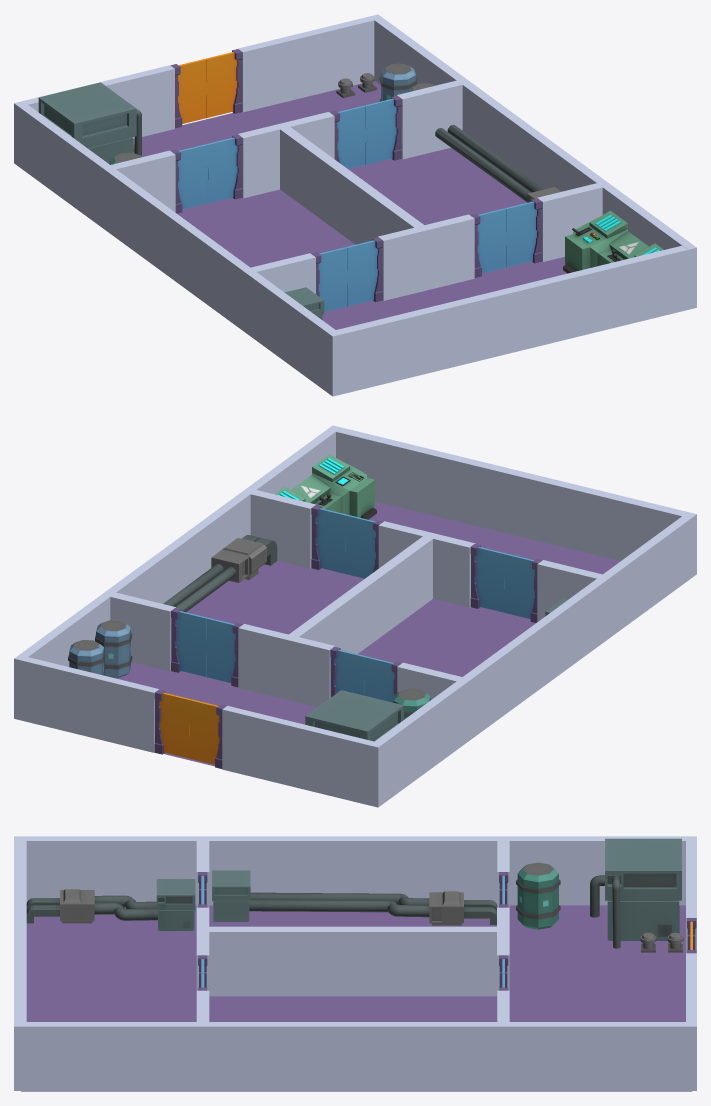
File: maps_05.fbx
The picture shows the model from 3 angles, top to bottom: view 1: azimuth 30°, elevation 25°; view 2: azimuth 150°, elevation 25°; view 3: azimuth 270°, elevation 25°; orthographic projection. The views are drawn at different scales.
Visible parts, largest first — view 1: wall_01_05_geo, wall_01_03_geo, wall_01_01_geo, wall_01_02_geo, wall_01_12_geo, wall_01_10_geo1, door_01_geo (×4), door_02_geo (×4), wall_01_06_geo, generatorStation_05_geo, wall_01_10_geo, wall_01_11_geo (+12 smaller); view 2: wall_01_05_geo, wall_01_01_geo, wall_01_03_geo, wall_01_02_geo, wall_01_04_geo, wall_01_12_geo, wall_01_10_geo1, door_01_geo (×4), door_02_geo (×4), wall_01_10_geo, wall_01_06_geo, table_01_geo (+13 smaller); view 3: wall_01_02_geo, wall_01_05_geo, wall_01_01_geo, wall_01_10_geo1, generatorStation_05_geo, generatorStation_04_geo1, generatorStation_04_geo, tank_03_geo, wall_01_03_geo, wall_01_04_geo, wall_01_06_geo, wall_01_10_geo (+6 smaller).
Boxes of the visible parts, left/top/right/bottom form: wall_01_05_geo: left=133, top=81, right=567, bottom=329; wall_01_03_geo: left=336, top=245, right=687, bottom=394; wall_01_01_geo: left=14, top=101, right=341, bottom=396; wall_01_02_geo: left=369, top=14, right=696, bottom=309; wall_01_12_geo: left=238, top=16, right=374, bottom=112; wall_01_10_geo1: left=280, top=127, right=423, bottom=244; door_01_geo (×4): left=206, top=98, right=536, bottom=306; door_02_geo (×4): left=178, top=105, right=507, bottom=311; wall_01_06_geo: left=378, top=214, right=474, bottom=300; generatorStation_05_geo: left=38, top=82, right=141, bottom=164; wall_01_10_geo: left=237, top=112, right=334, bottom=198; wall_01_11_geo: left=396, top=80, right=462, bottom=159; wall_01_05_geo: left=114, top=501, right=620, bottom=766; wall_01_01_geo: left=369, top=512, right=696, bottom=807; wall_01_03_geo: left=336, top=427, right=687, bottom=561; wall_01_02_geo: left=14, top=425, right=341, bottom=720; wall_01_04_geo: left=222, top=706, right=374, bottom=805; wall_01_12_geo: left=22, top=657, right=159, bottom=752; wall_01_10_geo1: left=289, top=536, right=432, bottom=653; door_01_geo (×4): left=176, top=508, right=507, bottom=695; door_02_geo (×4): left=205, top=515, right=534, bottom=702; wall_01_10_geo: left=238, top=624, right=335, bottom=707; wall_01_06_geo: left=378, top=521, right=475, bottom=607; table_01_geo: left=275, top=454, right=376, bottom=519; wall_01_02_geo: left=14, top=1022, right=696, bottom=1090; wall_01_05_geo: left=21, top=905, right=692, bottom=1091; wall_01_01_geo: left=14, top=836, right=696, bottom=905; wall_01_10_geo1: left=209, top=926, right=496, bottom=996; generatorStation_05_geo: left=590, top=838, right=681, bottom=948; generatorStation_04_geo1: left=212, top=870, right=497, bottom=925; generatorStation_04_geo: left=26, top=879, right=195, bottom=930; tank_03_geo: left=516, top=862, right=560, bottom=929; wall_01_03_geo: left=14, top=840, right=26, bottom=1021; wall_01_04_geo: left=686, top=841, right=696, bottom=953; wall_01_06_geo: left=196, top=907, right=209, bottom=990; wall_01_10_geo: left=497, top=907, right=509, bottom=1019.
Bounding box in the file's own units: 56.3 × 10.22 × 85.35.
7 materials, 7 textured.
